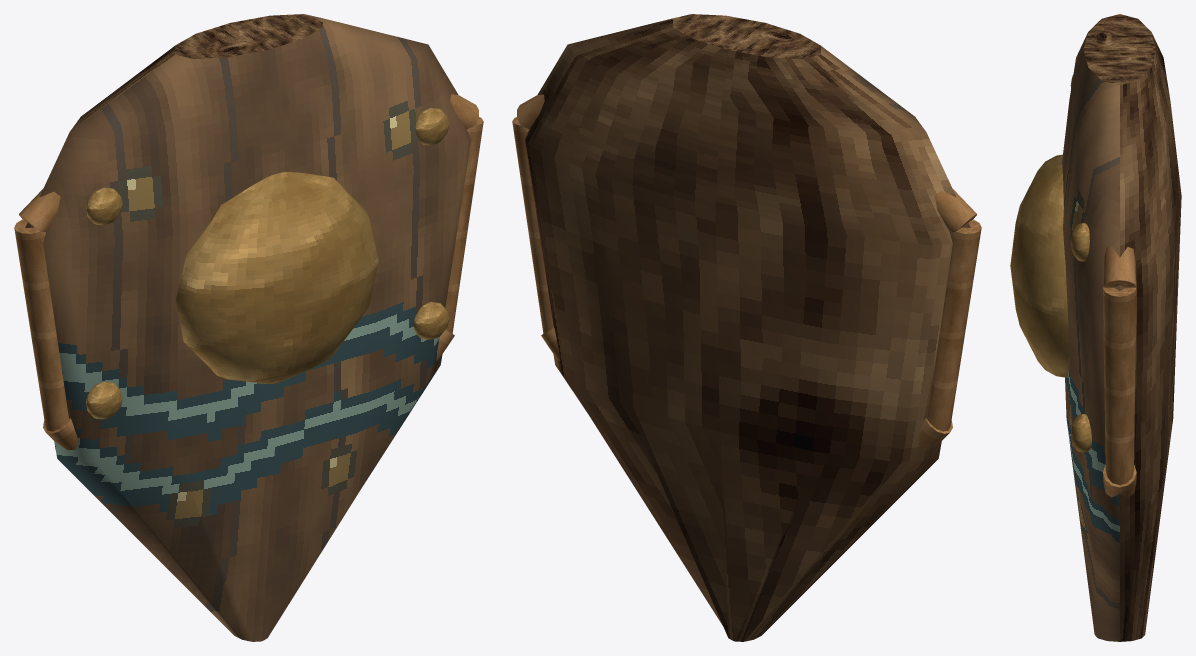
The model's file is FerryShield.fbx.
3 renders of one model, left to right at view 1: azimuth 30°, elevation 25°; view 2: azimuth 150°, elevation 25°; view 3: azimuth 270°, elevation 25°, orthographic.
Visible parts, largest first — view 1: FerryShield paint; view 2: FerryShield paint; view 3: FerryShield paint.
Boxes of the visible parts, left/top/right/bottom form: FerryShield paint: left=14, top=14, right=483, bottom=641; FerryShield paint: left=512, top=14, right=981, bottom=641; FerryShield paint: left=1010, top=14, right=1181, bottom=641.
Bounding box in the file's own units: 37.58 × 46 × 12.2.
